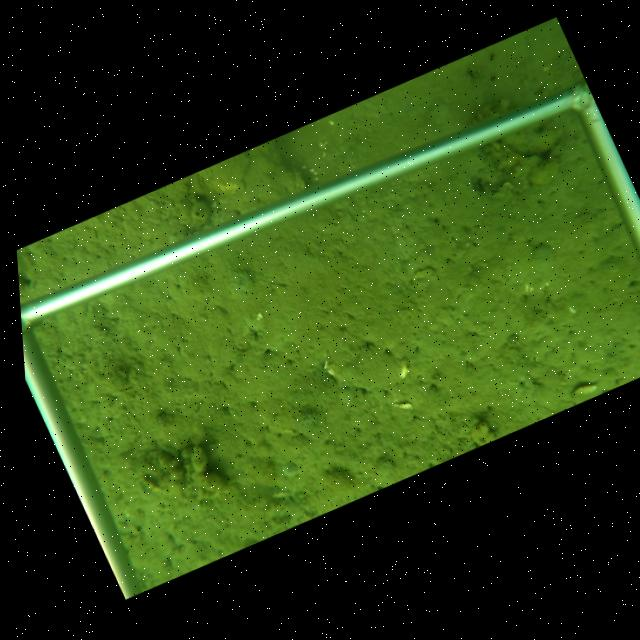Oyster-Closed: (501, 147, 545, 167)
